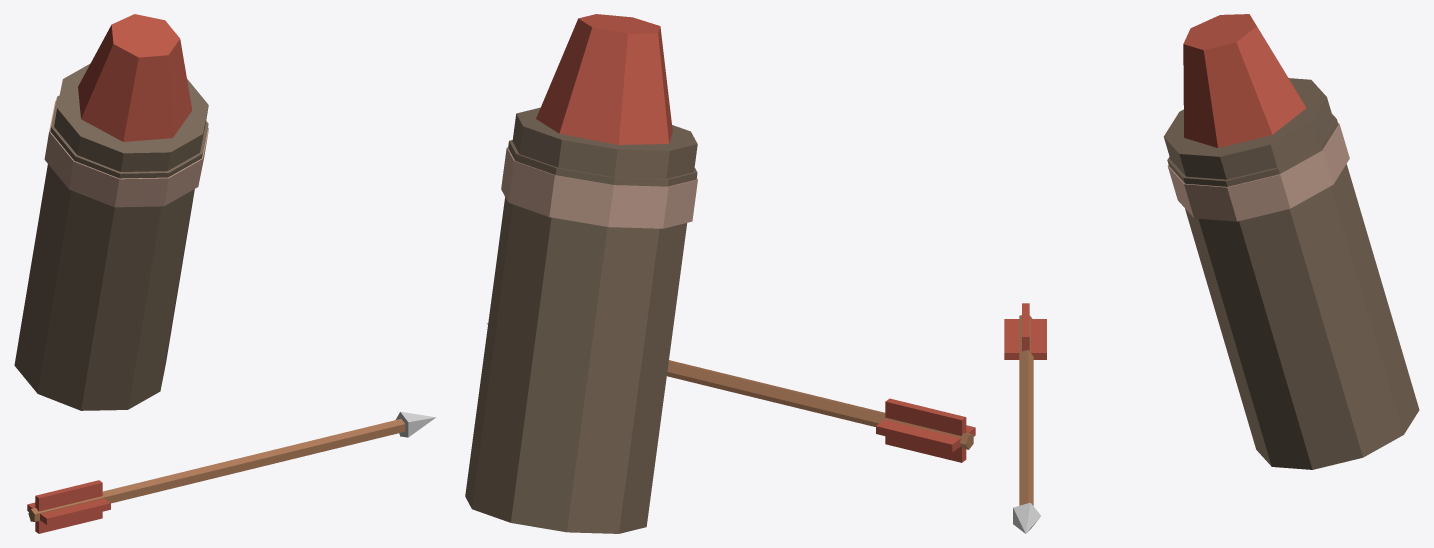
Rendered from ce_ammo2_arrow_steel_c.obj.
3 views of the same model, side by side, from view 1: azimuth 30°, elevation 25°; view 2: azimuth 150°, elevation 25°; view 3: azimuth 270°, elevation 25° (orthographic). The views are drawn at different scales.
Visible parts, largest first — view 1: ce_ammo2_arrow_steel_c_0, ce_ammo2_arrow_steel_c_2, ce_ammo2_arrow_steel_c_1, ce_ammo2_arrow_steel_c_3, ce_ammo2_arrow_steel_c_6, ce_ammo2_arrow_steel_c_5, ce_ammo2_arrow_steel_c_4; view 2: ce_ammo2_arrow_steel_c_0, ce_ammo2_arrow_steel_c_2, ce_ammo2_arrow_steel_c_1, ce_ammo2_arrow_steel_c_3, ce_ammo2_arrow_steel_c_6, ce_ammo2_arrow_steel_c_5; view 3: ce_ammo2_arrow_steel_c_0, ce_ammo2_arrow_steel_c_2, ce_ammo2_arrow_steel_c_1, ce_ammo2_arrow_steel_c_3, ce_ammo2_arrow_steel_c_5, ce_ammo2_arrow_steel_c_4.
Boxes of the visible parts, x1,y1,x2,y2 form: ce_ammo2_arrow_steel_c_0: (14, 63, 208, 410); ce_ammo2_arrow_steel_c_2: (78, 14, 192, 141); ce_ammo2_arrow_steel_c_1: (44, 101, 208, 207); ce_ammo2_arrow_steel_c_3: (28, 419, 405, 521); ce_ammo2_arrow_steel_c_6: (35, 480, 102, 533); ce_ammo2_arrow_steel_c_5: (27, 498, 110, 525); ce_ammo2_arrow_steel_c_4: (395, 411, 435, 437); ce_ammo2_arrow_steel_c_0: (465, 107, 697, 533); ce_ammo2_arrow_steel_c_2: (536, 14, 672, 144); ce_ammo2_arrow_steel_c_1: (501, 147, 697, 228); ce_ammo2_arrow_steel_c_3: (667, 360, 973, 449); ce_ammo2_arrow_steel_c_6: (885, 398, 966, 462); ce_ammo2_arrow_steel_c_5: (876, 419, 975, 452); ce_ammo2_arrow_steel_c_0: (1163, 78, 1419, 469); ce_ammo2_arrow_steel_c_2: (1183, 14, 1306, 147); ce_ammo2_arrow_steel_c_1: (1167, 123, 1349, 221); ce_ammo2_arrow_steel_c_3: (1019, 315, 1033, 505); ce_ammo2_arrow_steel_c_5: (1004, 319, 1046, 359); ce_ammo2_arrow_steel_c_4: (1013, 502, 1040, 533).
Bounding box in the file's own units: 0.779 × 0.7249 × 0.6384.
